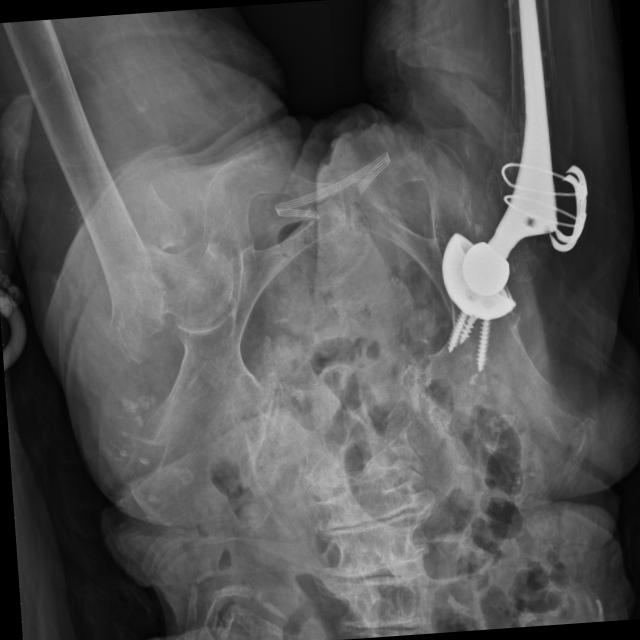left-intertrochanteric: (89, 217, 164, 364), (125, 240, 232, 324)
left-lesser-trochanter: (141, 181, 185, 248)
